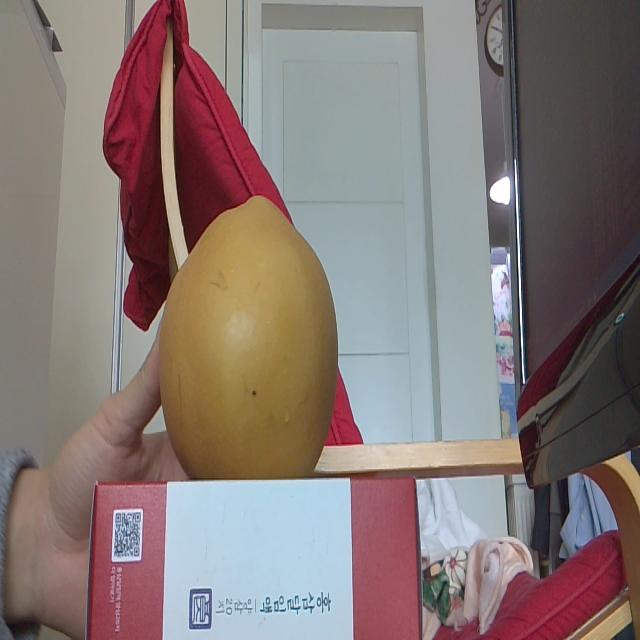pear: (157, 197, 337, 479)
